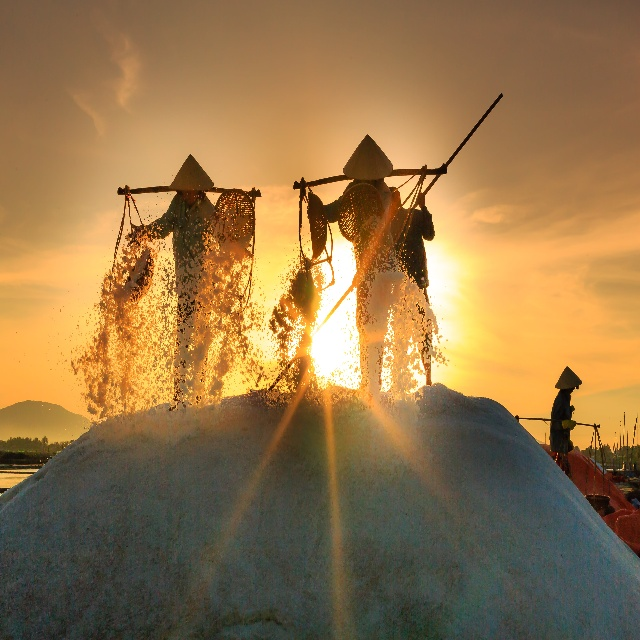Guantes: (561, 418, 577, 431)
Sin_guantes: (418, 192, 426, 208)
